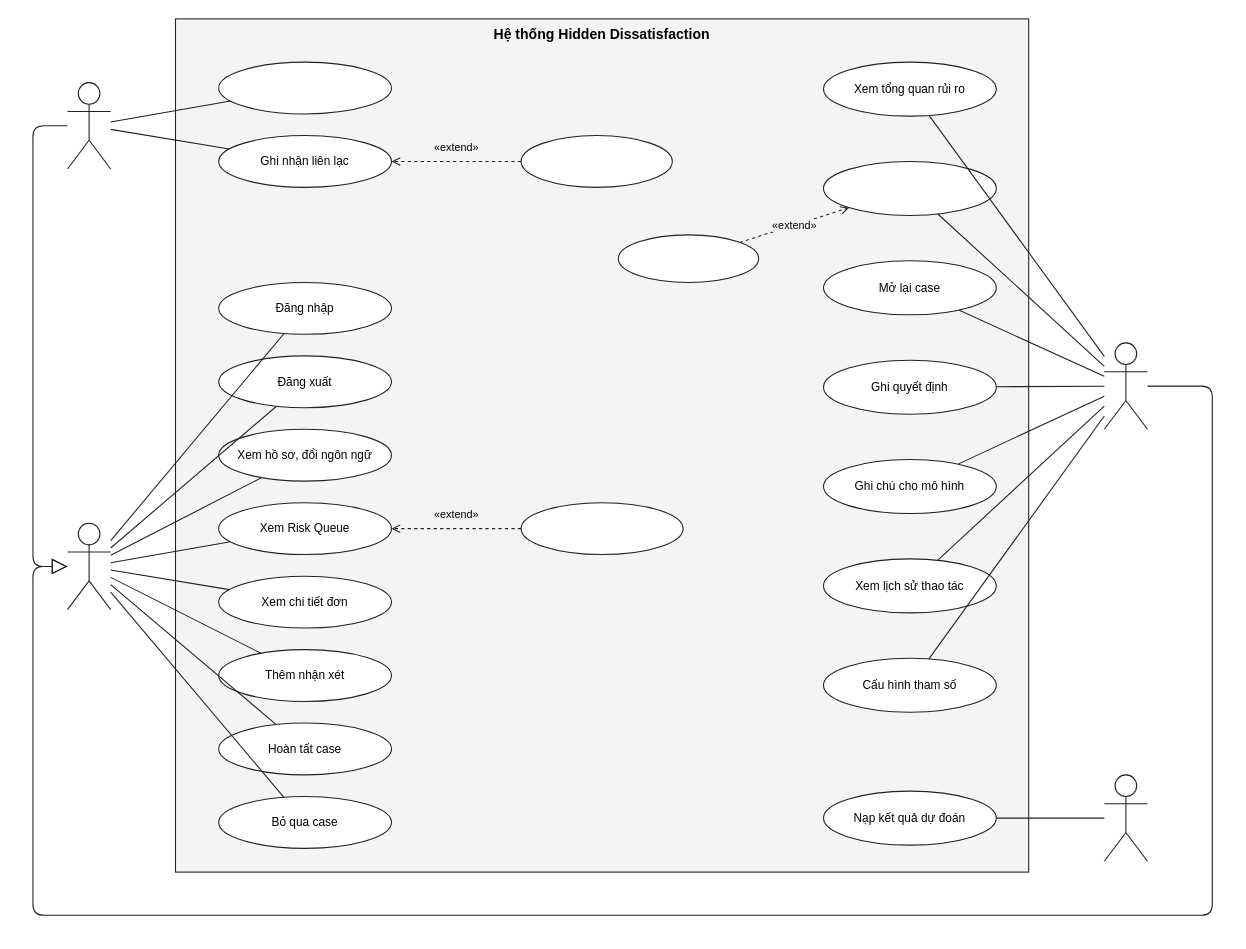
This 1246x949 diagram has some shape labels left out. Here are the shapes that lost their labels. From the top down, the centre of each, then its label:
(x=305, y=87): Nhận đơn
(x=88, y=125): Nhân viên CSKH
(x=596, y=160): Tải minh chứng
(x=909, y=187): Giao / chuyển đơn
(x=688, y=258): Vượt capacity
(x=1125, y=385): Quản lý
(x=601, y=528): Tìm kiếm, lọc, sắp xếp
(x=88, y=566): Người dùng
(x=1125, y=817): Quy trình chấm điểm ML
